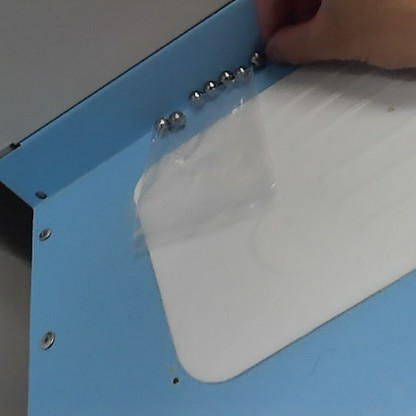ironball: (245, 49, 268, 71), (213, 66, 237, 86), (188, 87, 208, 110), (232, 62, 253, 82), (154, 115, 174, 134), (168, 108, 188, 126), (203, 80, 223, 96)
